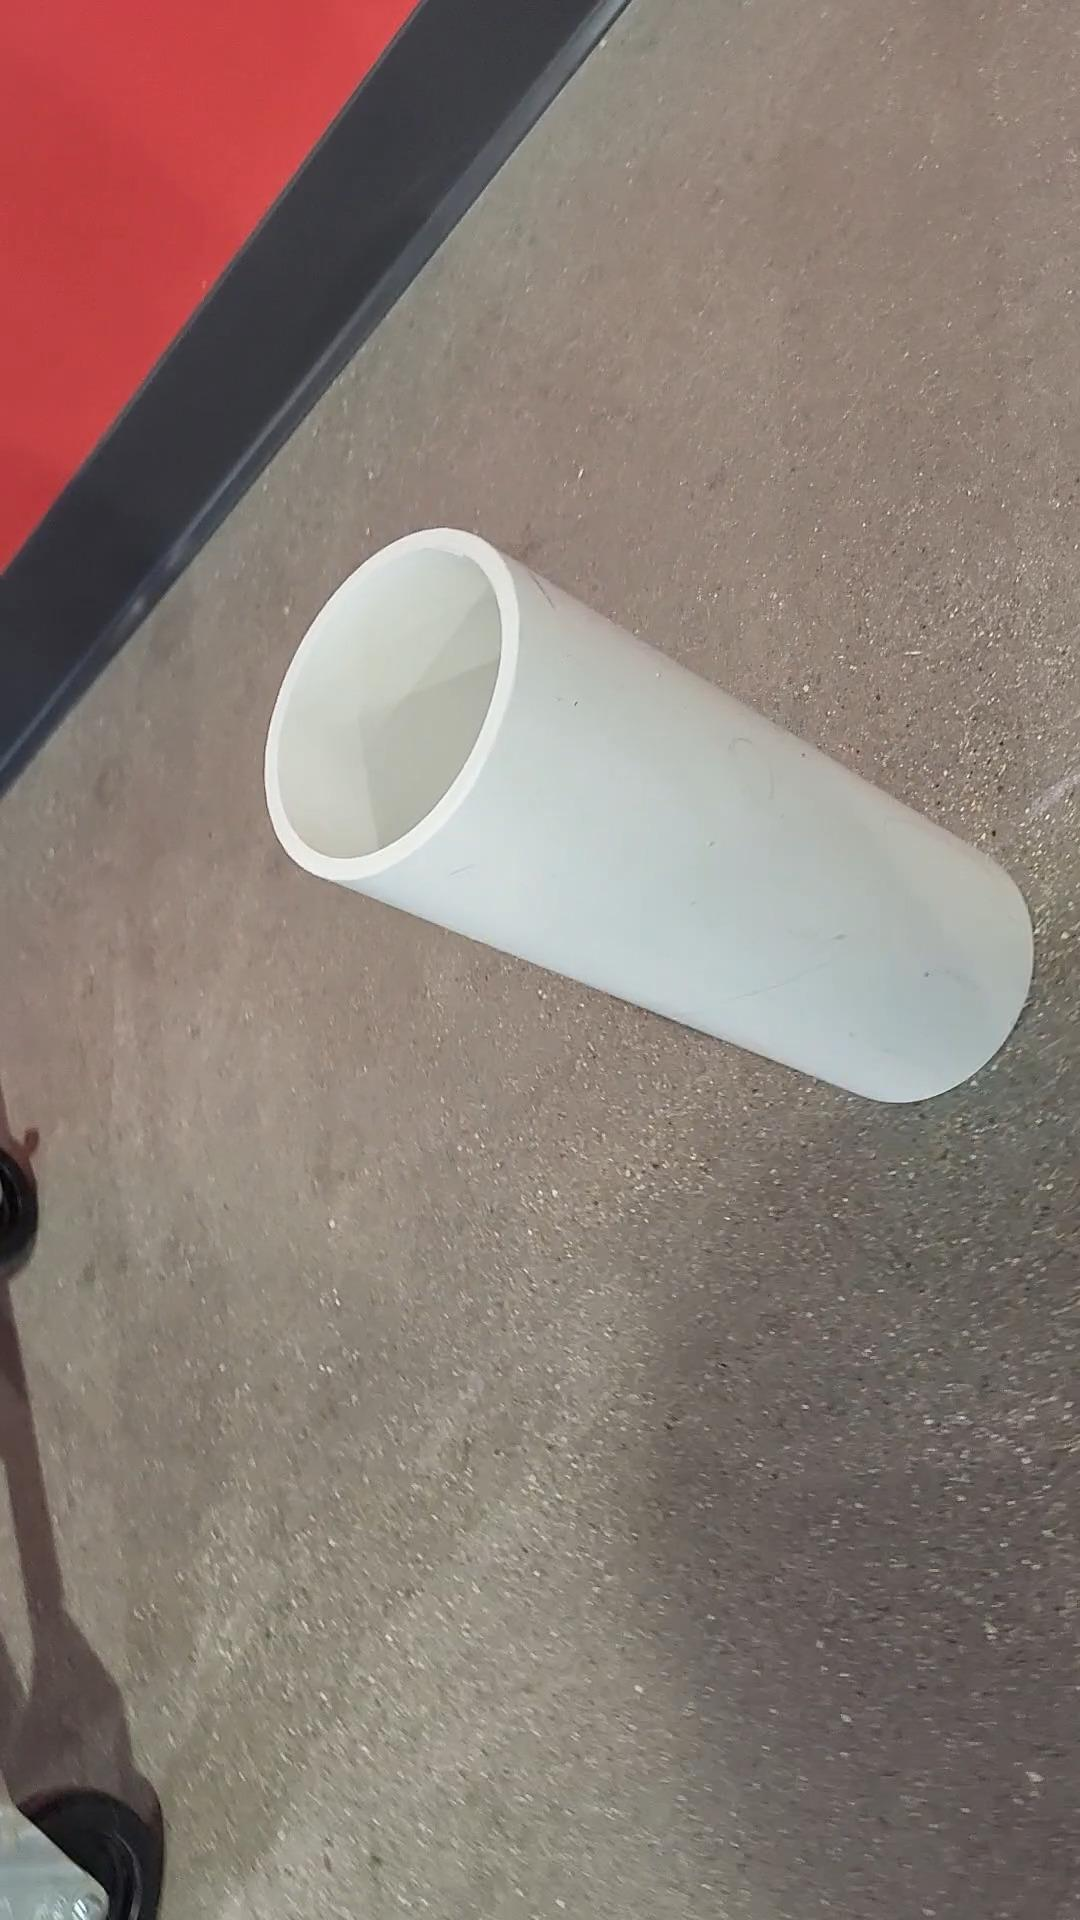coral: (262, 527, 1033, 1105)
